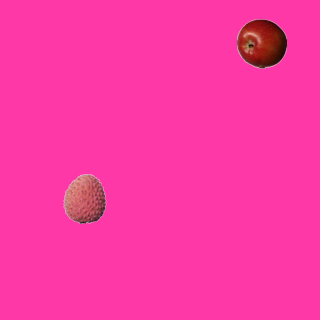Apple Braeburn: (236, 18, 286, 68)
Lychee: (59, 173, 109, 223)
